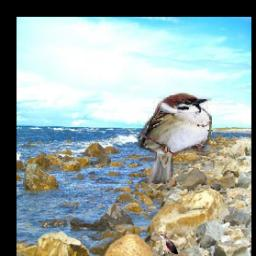Cuckoo: (156, 232, 178, 254)
Sparrow: (137, 92, 212, 184)
